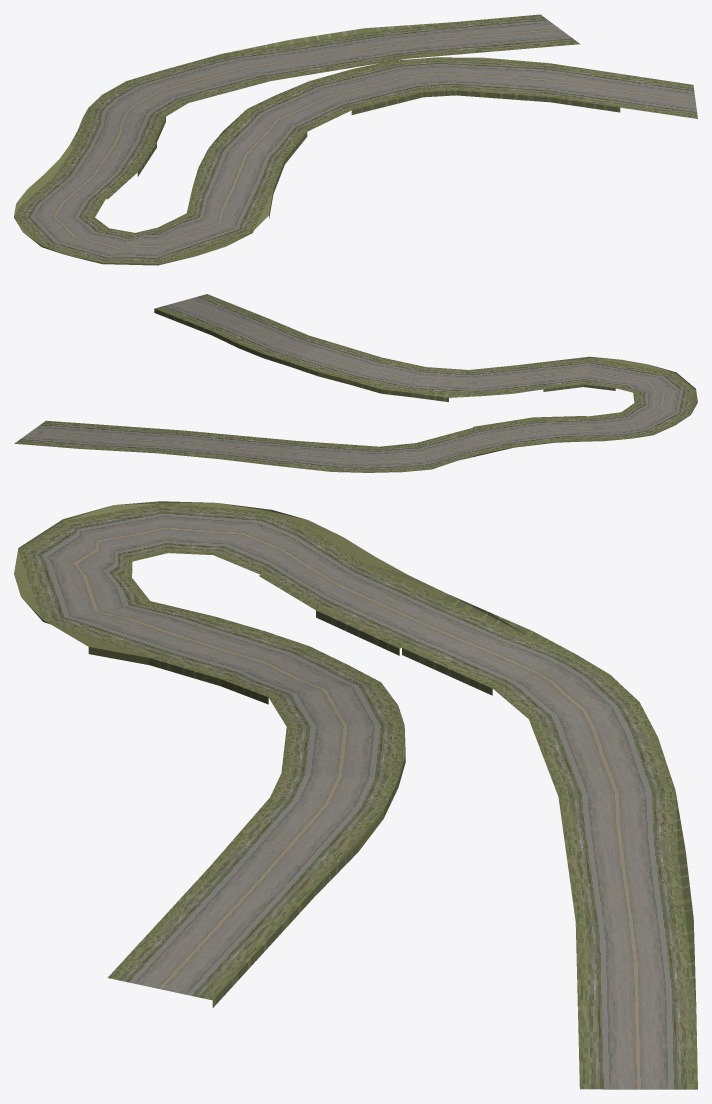
Rendered from lod_sfs157.obj.
The picture shows the model from 3 angles, top to bottom: view 1: azimuth 30°, elevation 25°; view 2: azimuth 150°, elevation 25°; view 3: azimuth 270°, elevation 25°; orthographic projection. The views are drawn at different scales.
Parts seen in each view (by area): view 1: LOD_sfs157; view 2: LOD_sfs157; view 3: LOD_sfs157.
Part boxes in pixels (bbox=[...]): LOD_sfs157: bbox=[14, 14, 697, 265]; LOD_sfs157: bbox=[14, 294, 697, 472]; LOD_sfs157: bbox=[14, 501, 697, 1089].
Size of the model in its own units: 195 by 24.56 by 116.
1 material, 1 textured.
